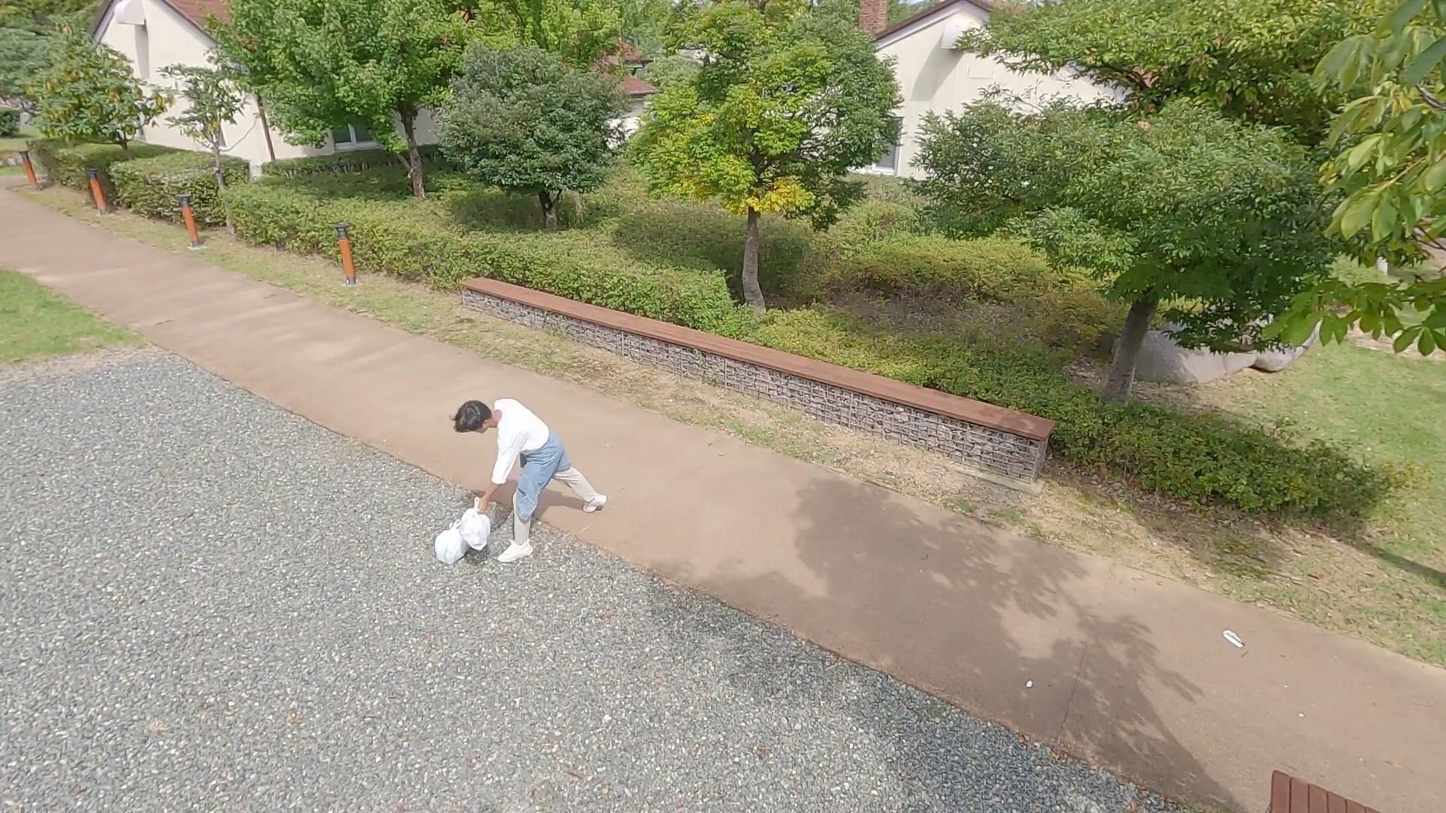person: (446, 390, 610, 566)
trash: (447, 501, 491, 547), (430, 522, 472, 566)
